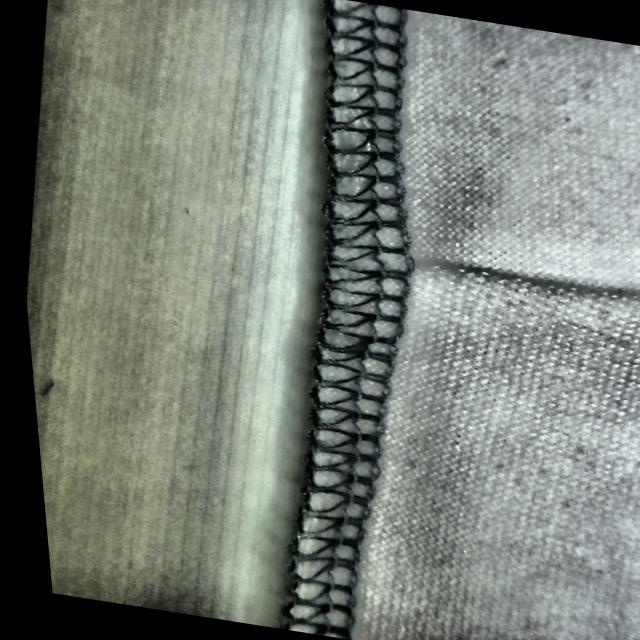seam: (298, 169, 640, 398)
